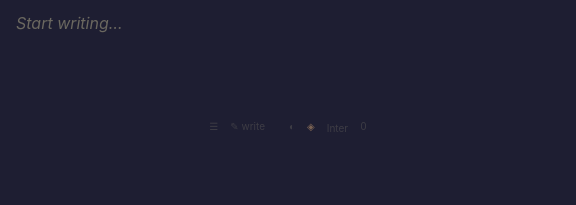
Scenario: Page › shows error in footer when conversation has error
Click the button with test id "mode-toggle".
click(248, 126)  # box x1=230 y1=118 x2=265 y2=134
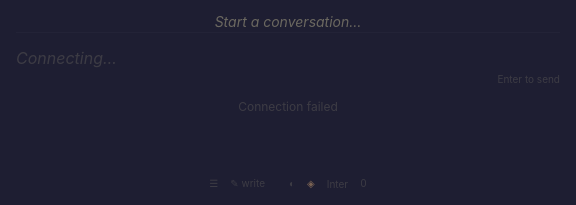
Result: the text "Connection failed" is shown at x1=238 y1=99 x2=338 y2=115
